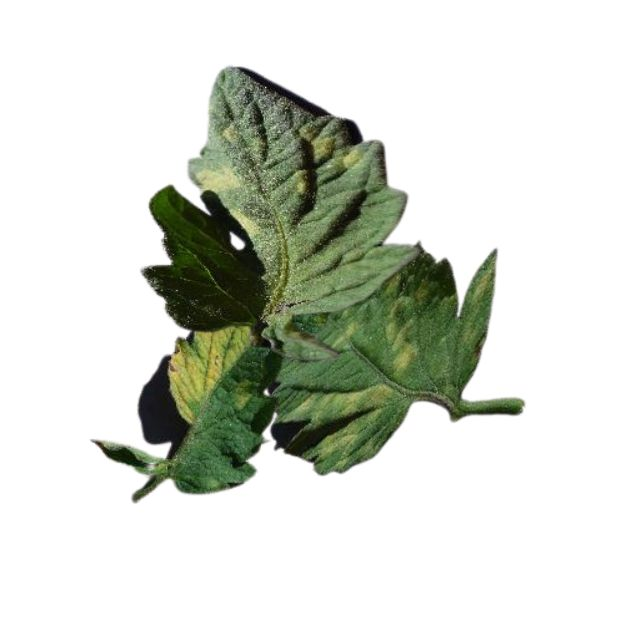Leaf_Mold: (166, 323, 251, 422), (292, 380, 396, 458), (380, 296, 419, 379), (194, 160, 246, 193), (300, 127, 332, 164), (341, 144, 362, 169)
